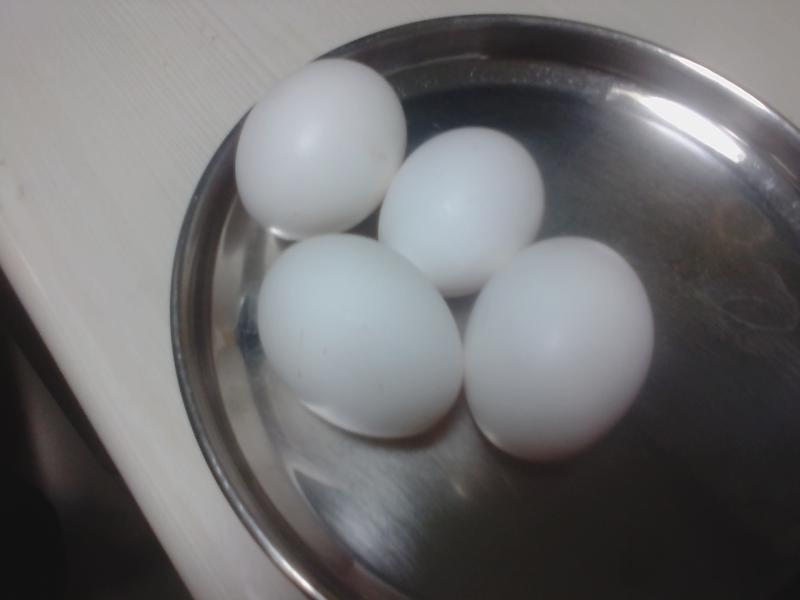egg: (383, 126, 542, 292)
